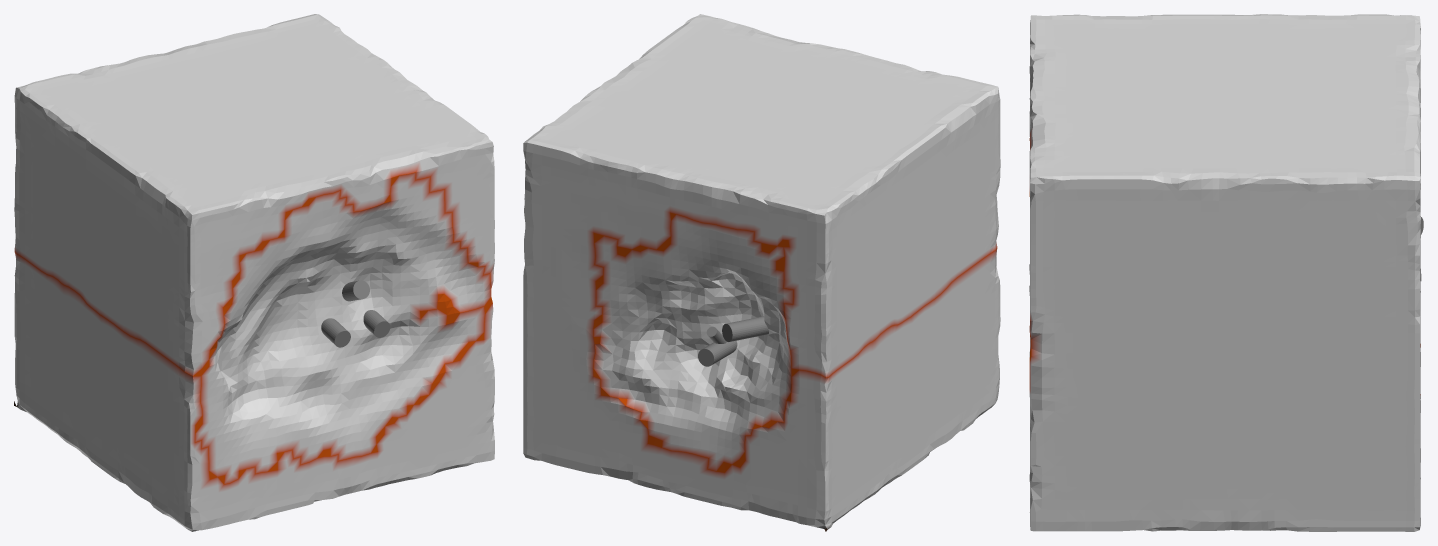
The model's file is c_block_wbars.fbx.
The picture shows the model from 3 angles, left to right: view 1: azimuth 30°, elevation 25°; view 2: azimuth 150°, elevation 25°; view 3: azimuth 270°, elevation 25°; orthographic projection. The views are drawn at different scales.
Parts seen in each view (by area): view 1: concrete1_SeamsColor, metal_bars; view 2: concrete1_SeamsColor, metal_bars; view 3: concrete1_SeamsColor.
Boxes of the visible parts, x1,y1,x2,y2 form: concrete1_SeamsColor: [14, 14, 494, 531]; metal_bars: [321, 280, 390, 347]; concrete1_SeamsColor: [523, 14, 1000, 531]; metal_bars: [698, 316, 768, 366]; concrete1_SeamsColor: [1029, 14, 1420, 531].
Size of the model in its own units: 2.01 by 2.01 by 2.02.
